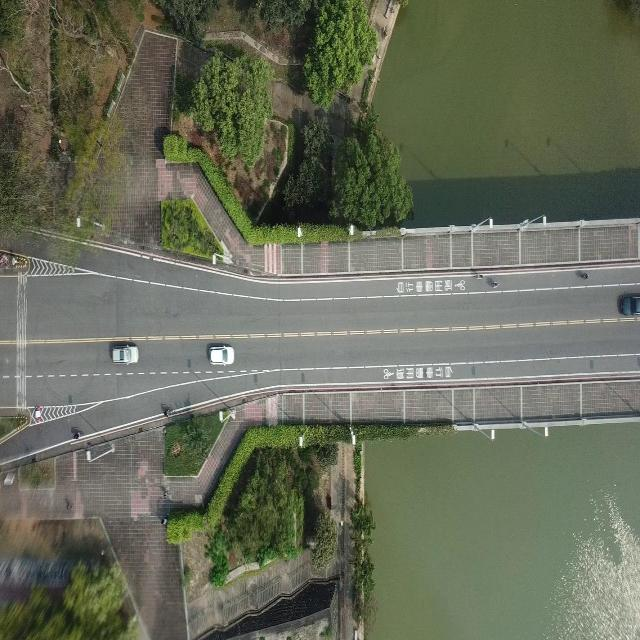bike: (64, 494, 72, 513)
car: (207, 340, 234, 365), (110, 340, 138, 364), (616, 290, 640, 317)
